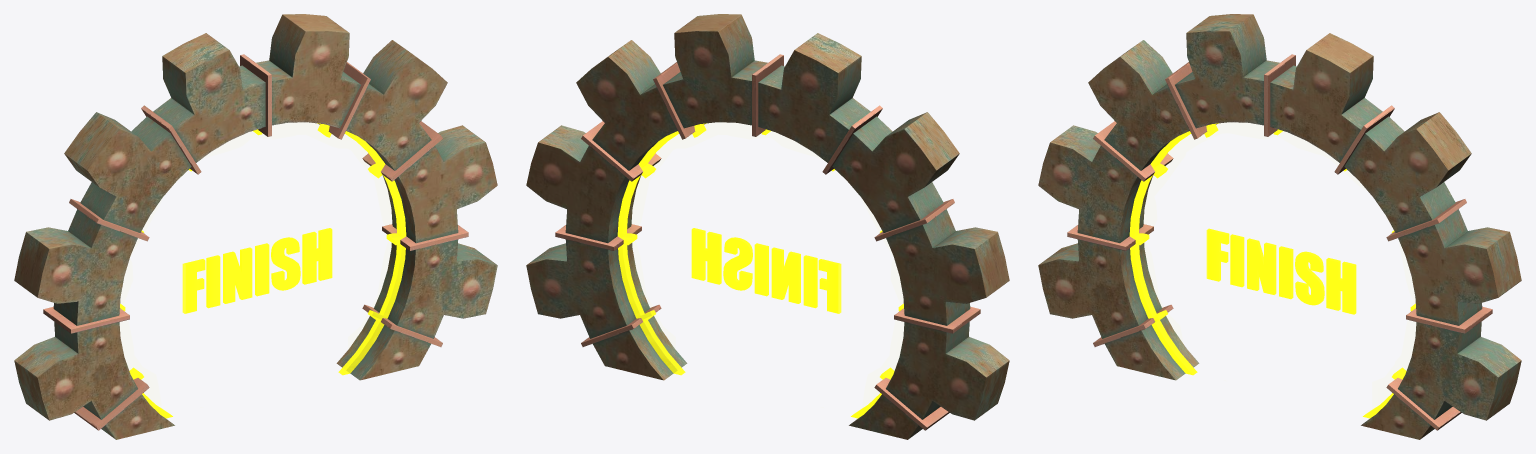
File: d4f9d978-9d18-4fda-998b-60edf53bf50d.glb
3 renders of one model, left to right at view 1: azimuth 30°, elevation 25°; view 2: azimuth 150°, elevation 25°; view 3: azimuth 330°, elevation 25°, orthographic.
Visible parts, largest first — view 1: steampunkCheckpoint, steampunkFinish.001; view 2: steampunkCheckpoint, steampunkFinish.001; view 3: steampunkCheckpoint, steampunkFinish.001.
Part boxes in pixels (bbox=[...]): steampunkCheckpoint: bbox=[14, 14, 497, 439]; steampunkFinish.001: bbox=[182, 228, 332, 313]; steampunkCheckpoint: bbox=[526, 14, 1009, 439]; steampunkFinish.001: bbox=[691, 228, 841, 313]; steampunkCheckpoint: bbox=[1038, 14, 1521, 439]; steampunkFinish.001: bbox=[1206, 228, 1356, 314].
Size of what is drawn, in the model's own units: 5.21 by 3.92 by 0.5475.
2 materials, 2 textured.
